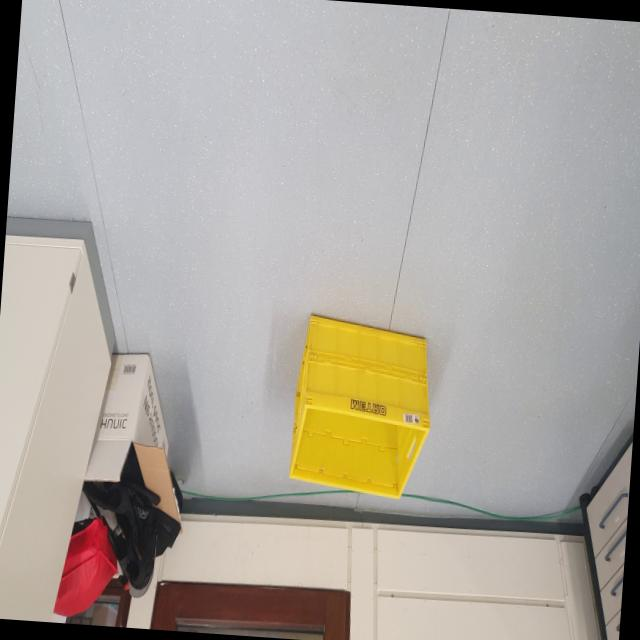box: (276, 294, 442, 508)
